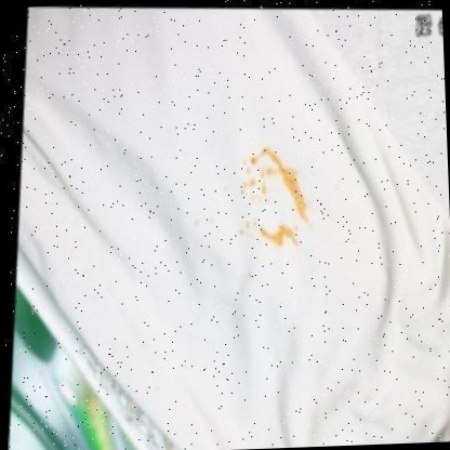kimchi: (232, 146, 288, 201), (238, 214, 310, 245), (284, 168, 313, 225)
